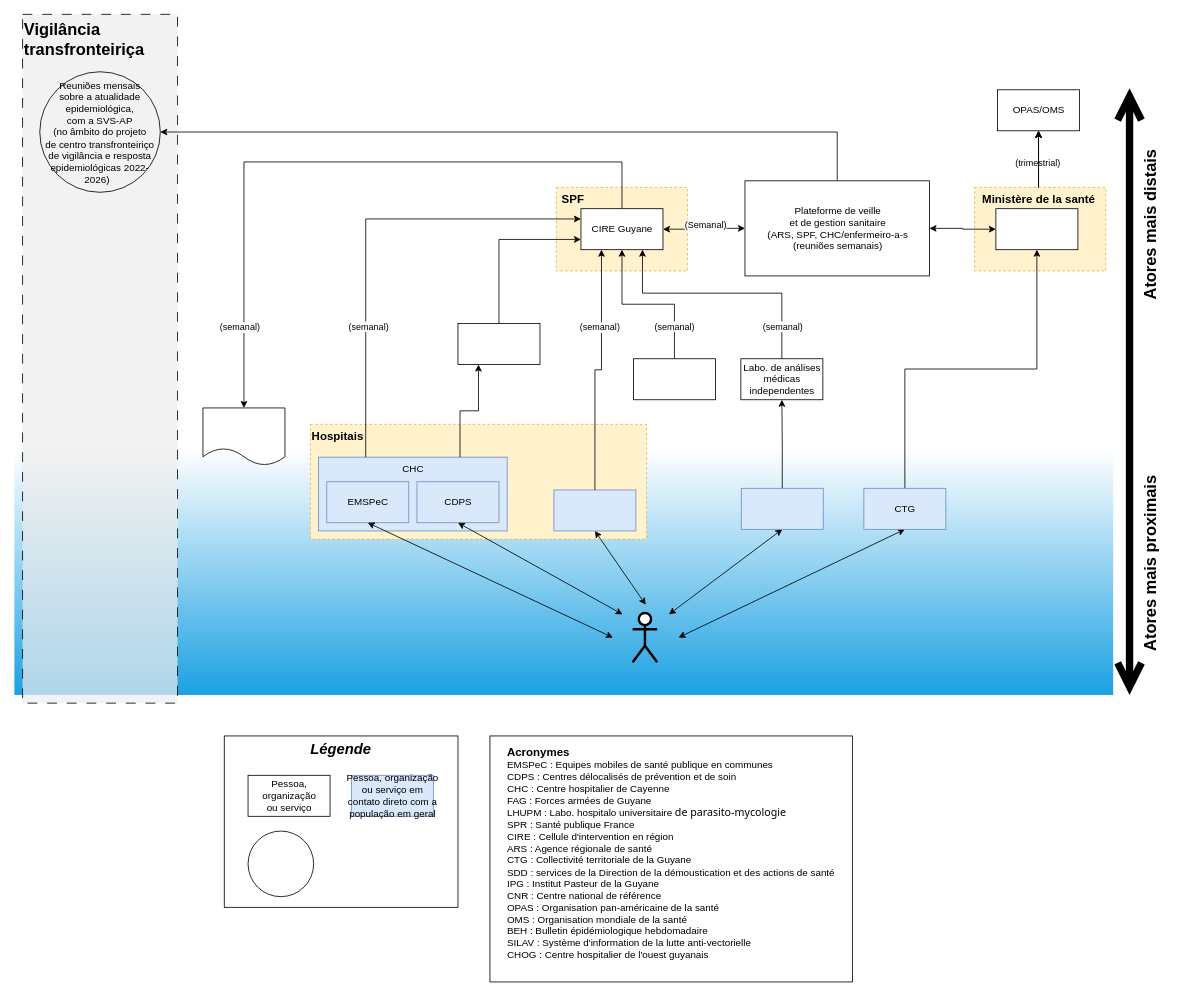
Some shapes in this 1180 by 996 pixel diagram are drawn without their labels. Each missing label, with the centre of its shape:
"ARS Guyane" belongs at point (1036, 229).
"Ação" belongs at point (280, 863).
"Boletins epidemiológicos" belongs at point (243, 436).
"CHOG" belongs at point (594, 510).
"FAG" belongs at point (674, 379).
"IPG" belongs at point (498, 343).
"Médicos independentes" belongs at point (781, 508).
"População das áreas transfronteiriças" belongs at point (644, 637).
